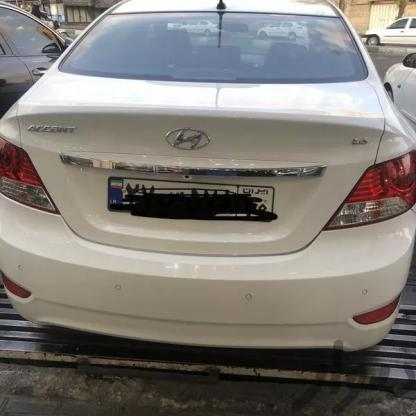Car: (0, 0, 416, 374), (366, 46, 416, 136), (360, 18, 416, 45)
